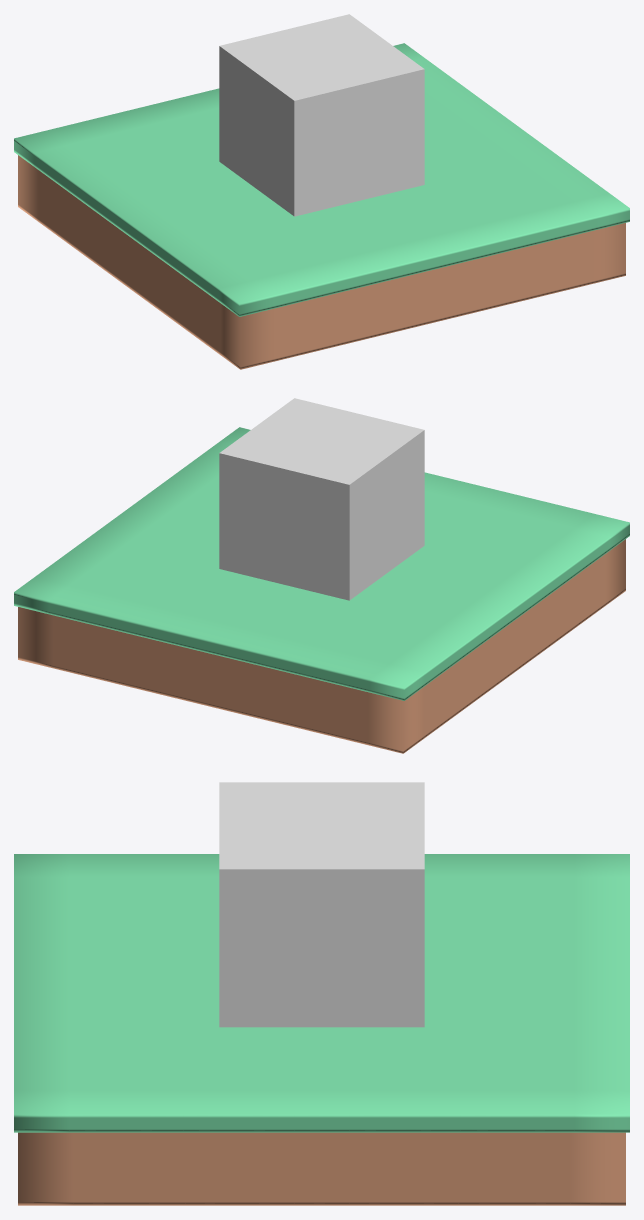
The model's file is world.glb.
3 renders of one model, top to bottom at view 1: azimuth 30°, elevation 25°; view 2: azimuth 150°, elevation 25°; view 3: azimuth 270°, elevation 25°, orthographic. The views are drawn at different scales.
Visible parts, largest first — view 1: Plane, Cube, Plane.001; view 2: Plane, Cube, Plane.001; view 3: Plane, Cube, Plane.001.
Boxes of the visible parts, x1=… form: Plane: x1=14, y1=43, x2=629, y2=316; Cube: x1=219, y1=14, x2=424, y2=216; Plane.001: x1=18, y1=155, x2=625, y2=369; Plane: x1=14, y1=427, x2=629, y2=700; Cube: x1=219, y1=398, x2=424, y2=600; Plane.001: x1=18, y1=539, x2=625, y2=753; Plane: x1=14, y1=854, x2=629, y2=1132; Cube: x1=219, y1=782, x2=424, y2=1027; Plane.001: x1=18, y1=1132, x2=625, y2=1205.
Size of what is drawn, in the model's own units: 6 by 2.7 by 6.
